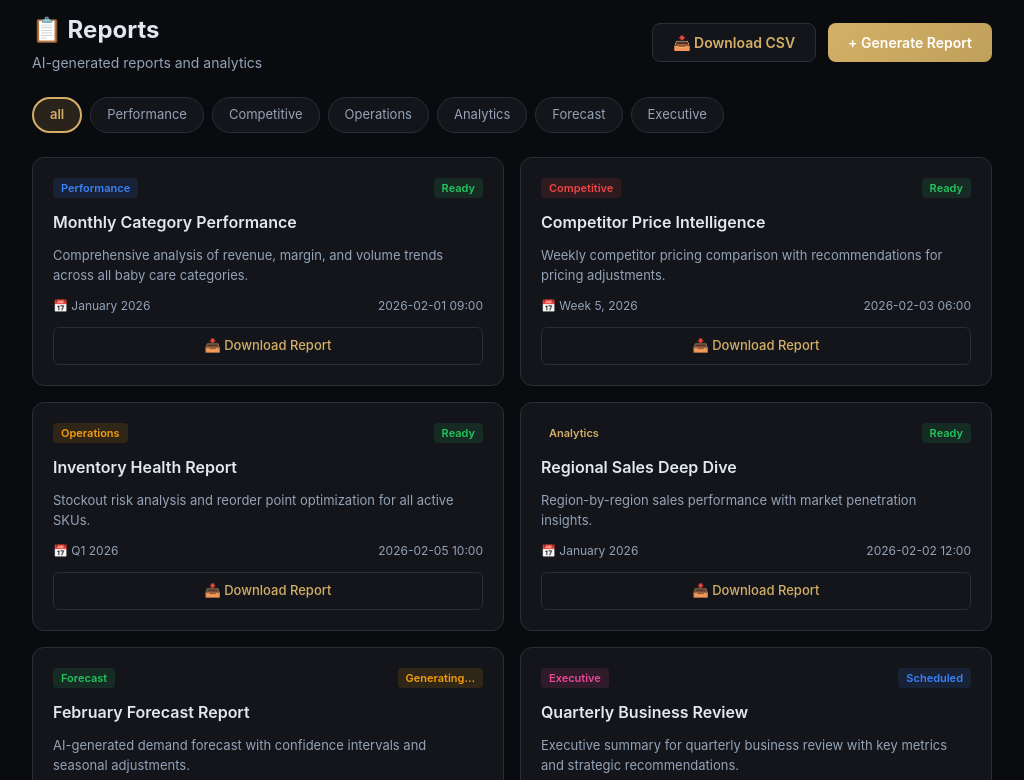
Test: Reports page › filters reports by type when a type button is clicked
This screenshot has width=1024, height=780.
Click the button "Performance": click(147, 115) [90,97,204,132]
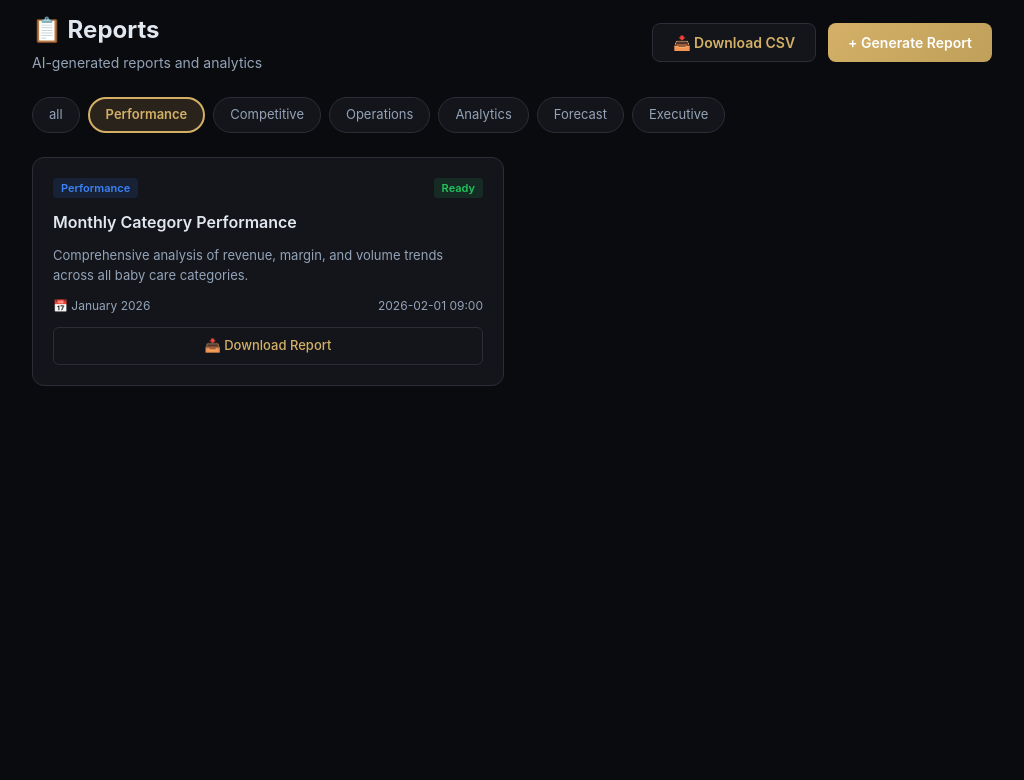
Expected: the heading "Monthly Category Performance" is shown, [53,212,297,232]
Result: the heading "Competitor Price Intelligence" is gone
